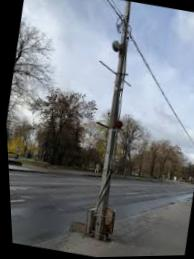Animal: (42, 0, 163, 258)
